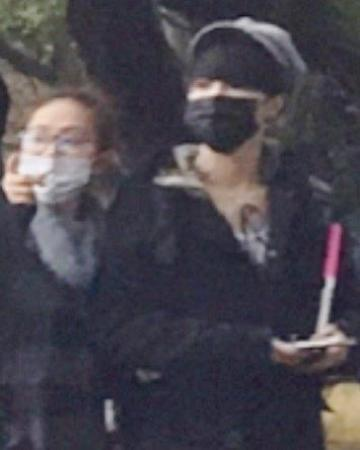OK: (185, 74, 264, 153)
WRONG: (19, 121, 104, 200)
